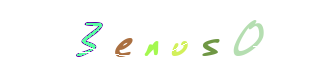0: (185, 0, 265, 80)
3: (49, 0, 129, 80)
E: (50, 0, 130, 80)
N: (119, 0, 199, 80)
S: (125, 0, 205, 80)
U: (124, 0, 204, 80)
